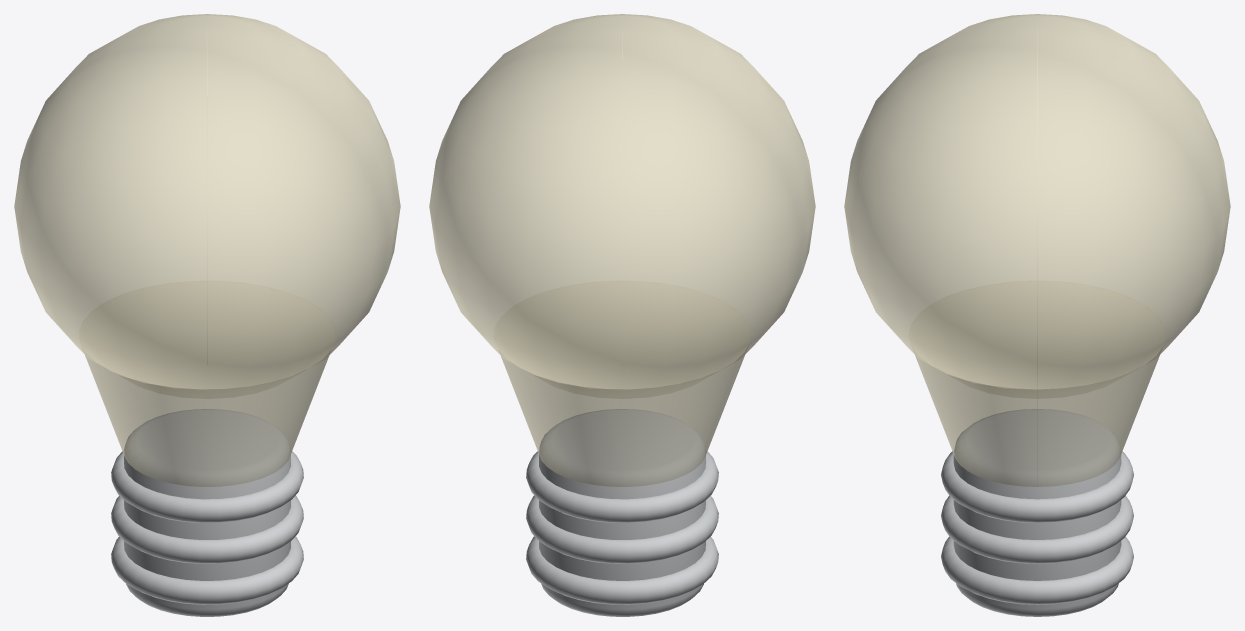
File: light_bulb.glb
The picture shows the model from 3 angles, left to right: view 1: azimuth 30°, elevation 25°; view 2: azimuth 150°, elevation 25°; view 3: azimuth 270°, elevation 25°; orthographic projection.
Visible parts, largest first — view 1: light_bulb; view 2: light_bulb; view 3: light_bulb.
Boxes of the visible parts, x1,y1,x2,y2 form: light_bulb: [14, 14, 400, 616]; light_bulb: [429, 14, 815, 616]; light_bulb: [844, 14, 1230, 616].
Size of the model in its own units: 0.06 by 0.095 by 0.06.
